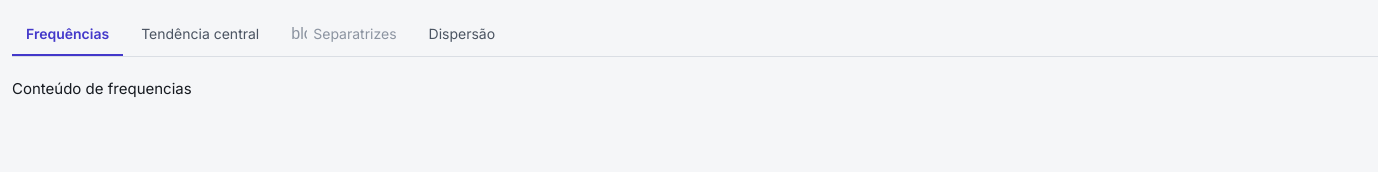
liga a aba ativa ao painel
Expected: the element named "Análises da coluna" is shown, [12, 12, 1377, 57]
Expected: the panel named "Frequências" reads "Conteúdo de frequencias", [12, 79, 192, 98]
Click the tab "Tendência central".
click(200, 34)  # box [127, 12, 273, 56]
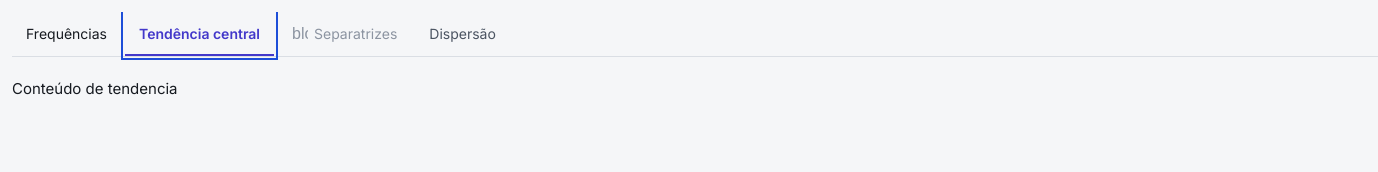
Expected: the panel named "Tendência central" reads "Conteúdo de tendencia", [12, 79, 178, 98]
